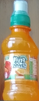orange: (2, 1, 39, 100)
